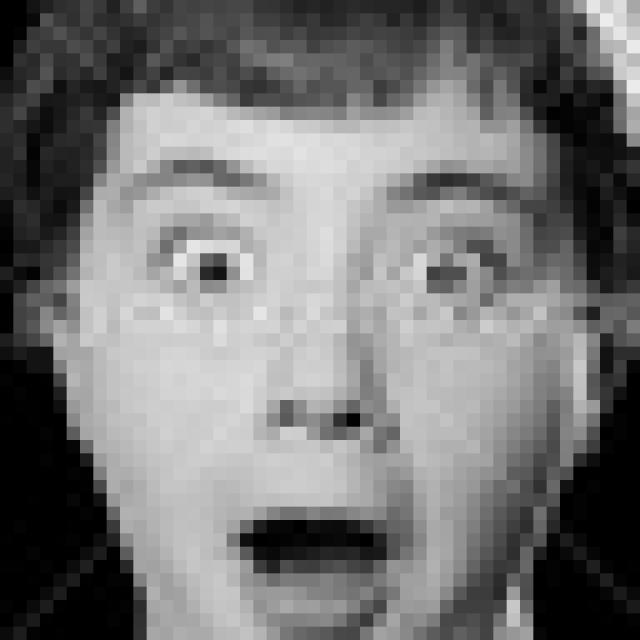surprise: (97, 153, 548, 640)
